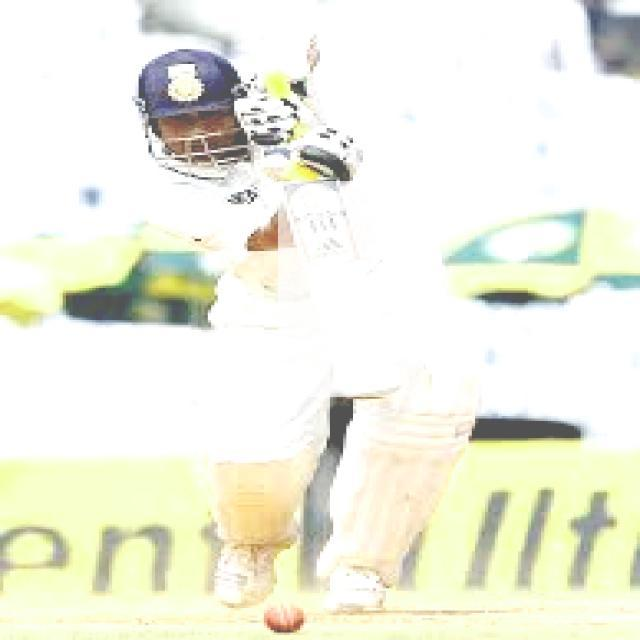bat: (281, 184, 405, 397)
toe: (340, 385, 405, 396)
